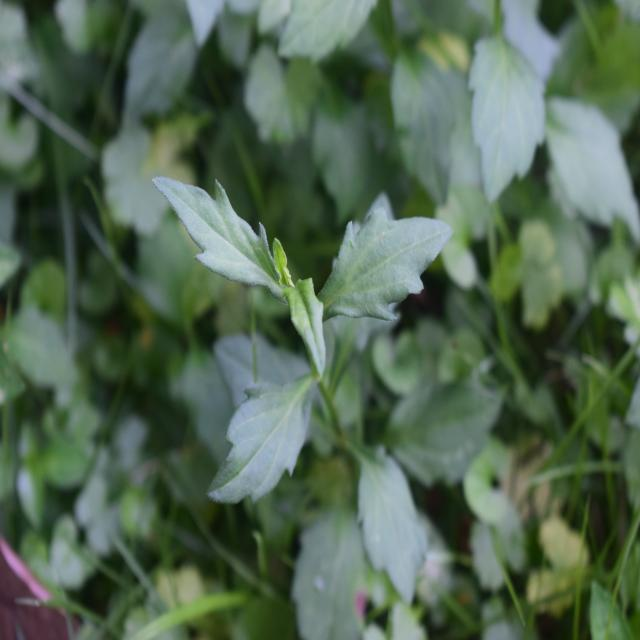Indian aster: (161, 142, 439, 590)
